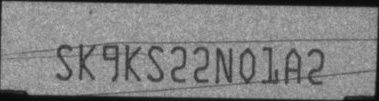1: (262, 46, 279, 83)
2: (308, 47, 325, 86), (170, 45, 186, 82), (194, 45, 210, 82)
9: (103, 44, 120, 83)
A: (284, 48, 302, 85)
K: (78, 41, 95, 80), (124, 44, 141, 81)
N: (214, 46, 232, 84)
O: (238, 47, 256, 84)
S: (55, 43, 74, 80), (147, 43, 165, 82)
